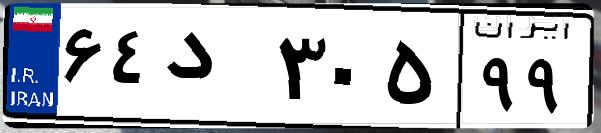0: (330, 28, 385, 110)
3: (270, 28, 330, 110)
4: (110, 28, 158, 98)
5: (385, 28, 445, 110)
6: (57, 26, 110, 100)
9: (475, 38, 525, 113), (525, 38, 570, 115)
د: (158, 20, 270, 120)
